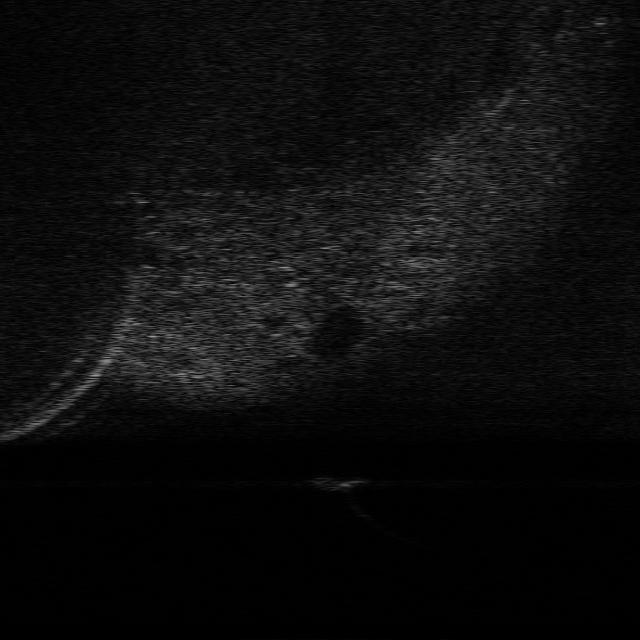cube: (311, 469, 369, 494)
